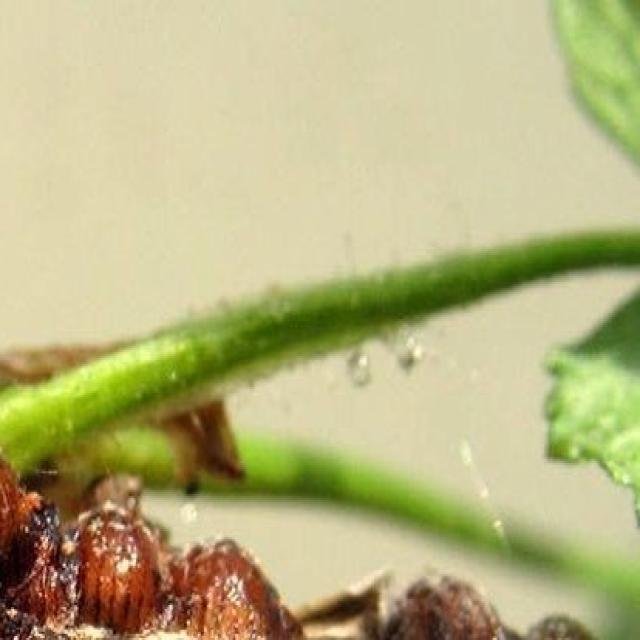BlackScale: (0, 459, 301, 638), (380, 576, 595, 638)
